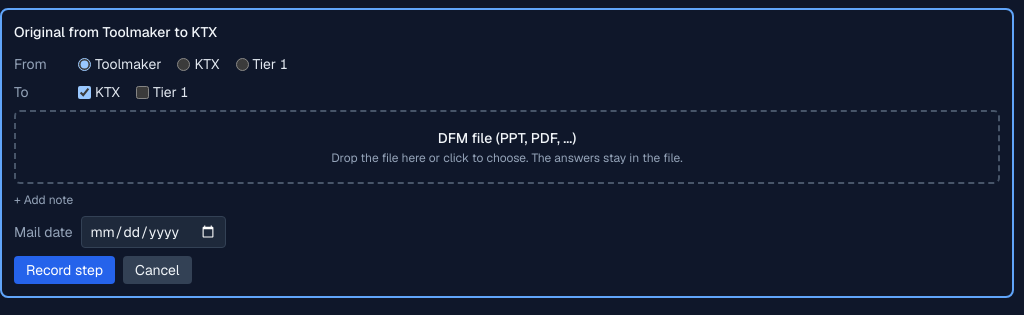
Scenario: DfmEntryForm › records an original: pick from and to, note, date and files
Later steps or results of the test are not shown.
Check: the text with test id "dfm-step-sentence" reads "Original from Toolmaker to KTX", box [14,23,217,41]
Click the radio button with test id "dfm-from-ktx" at (184, 64), box [178,58,190,70]
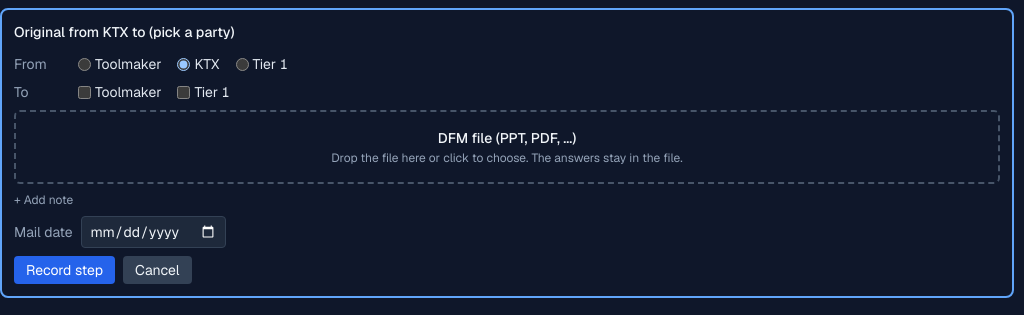
Check: the checkbox with test id "addressed-ktx" is gone
Click the checkbox with test id "addressed-toolmaker" at (84, 92), box [78,86,91,98]
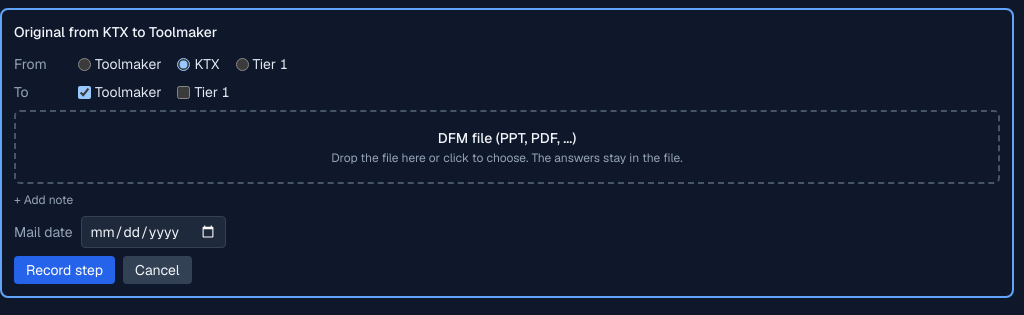
Click the checkbox with test id "addressed-tier1" at (184, 92), box [178,86,190,98]
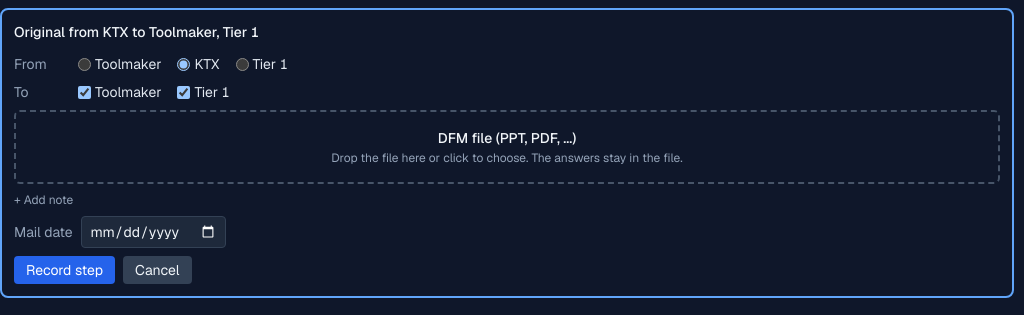
Check: the text with test id "dfm-step-sentence" reads "Original from KTX to Toolmaker, Tier 1", box [14,23,259,41]
